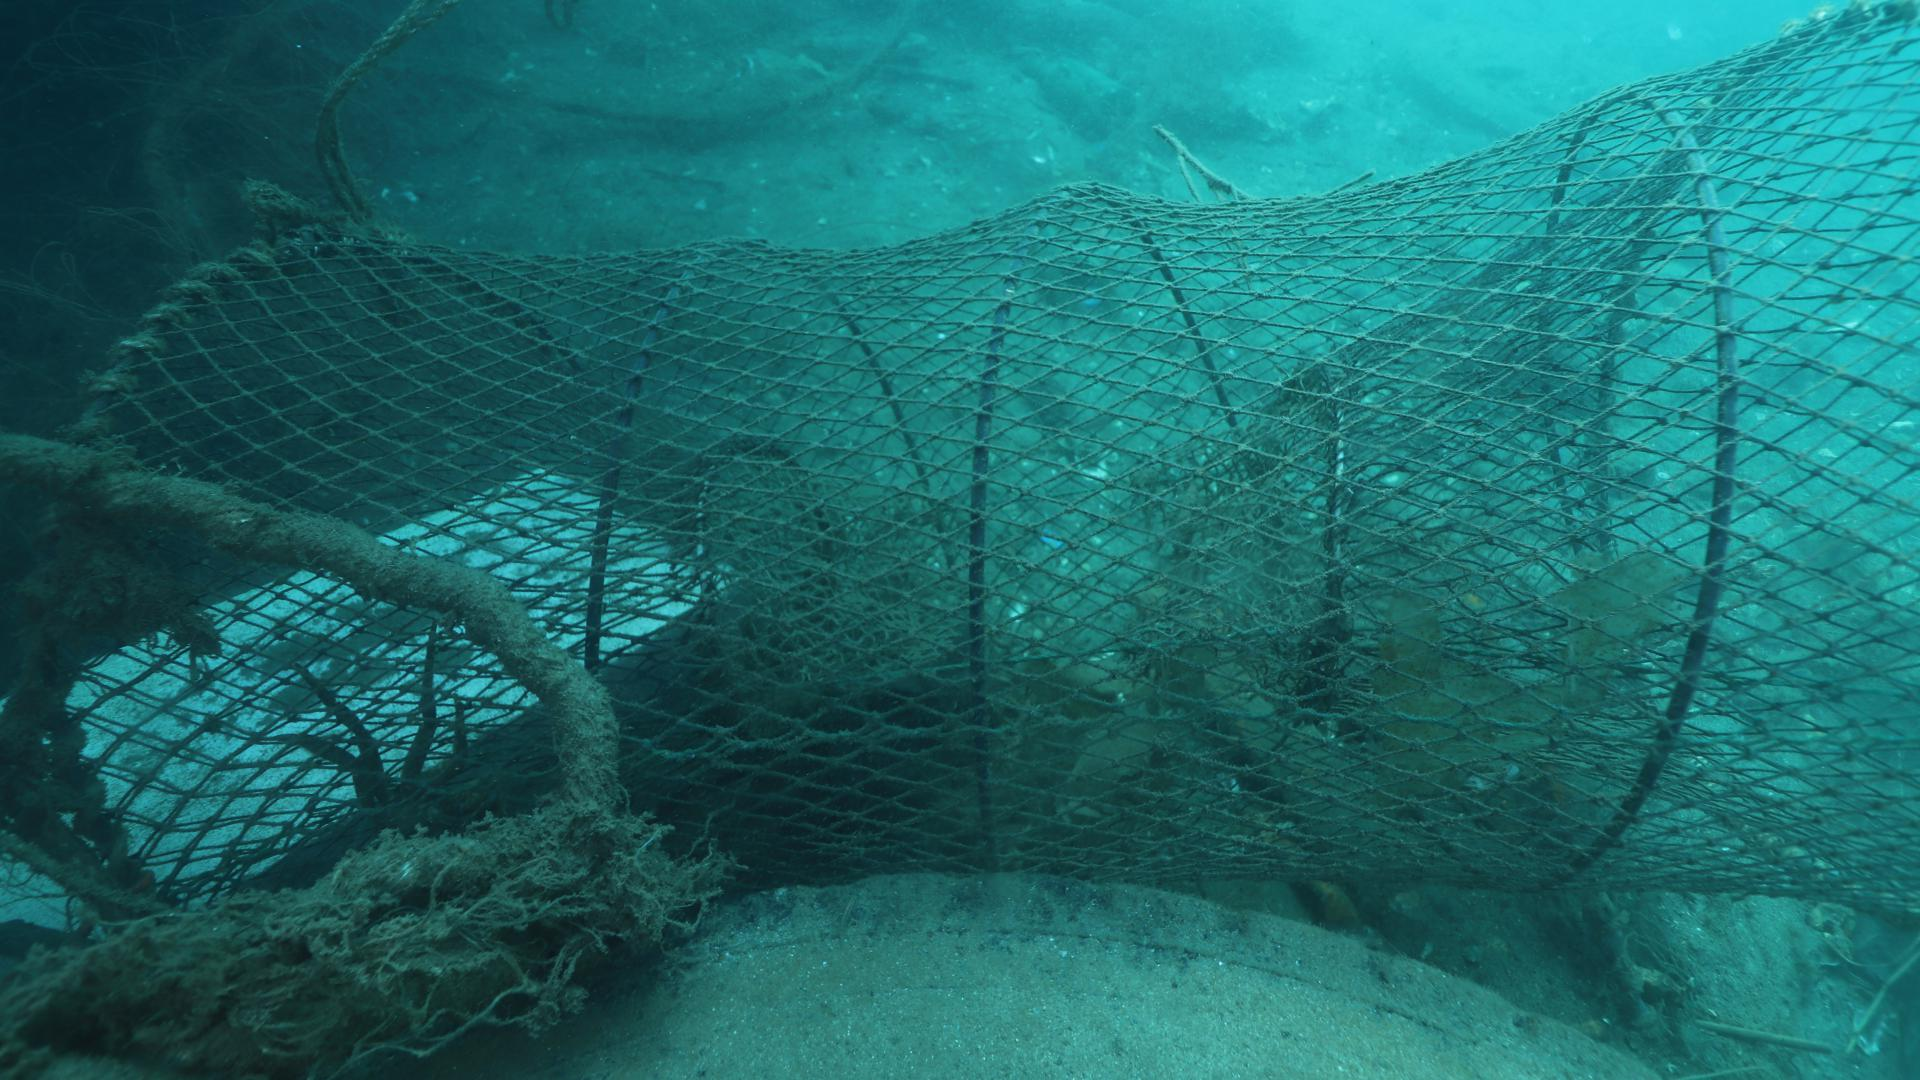bundle of ropes: (310, 0, 458, 235)
rope: (0, 429, 618, 808)
spring fish trap: (0, 0, 1920, 938)
